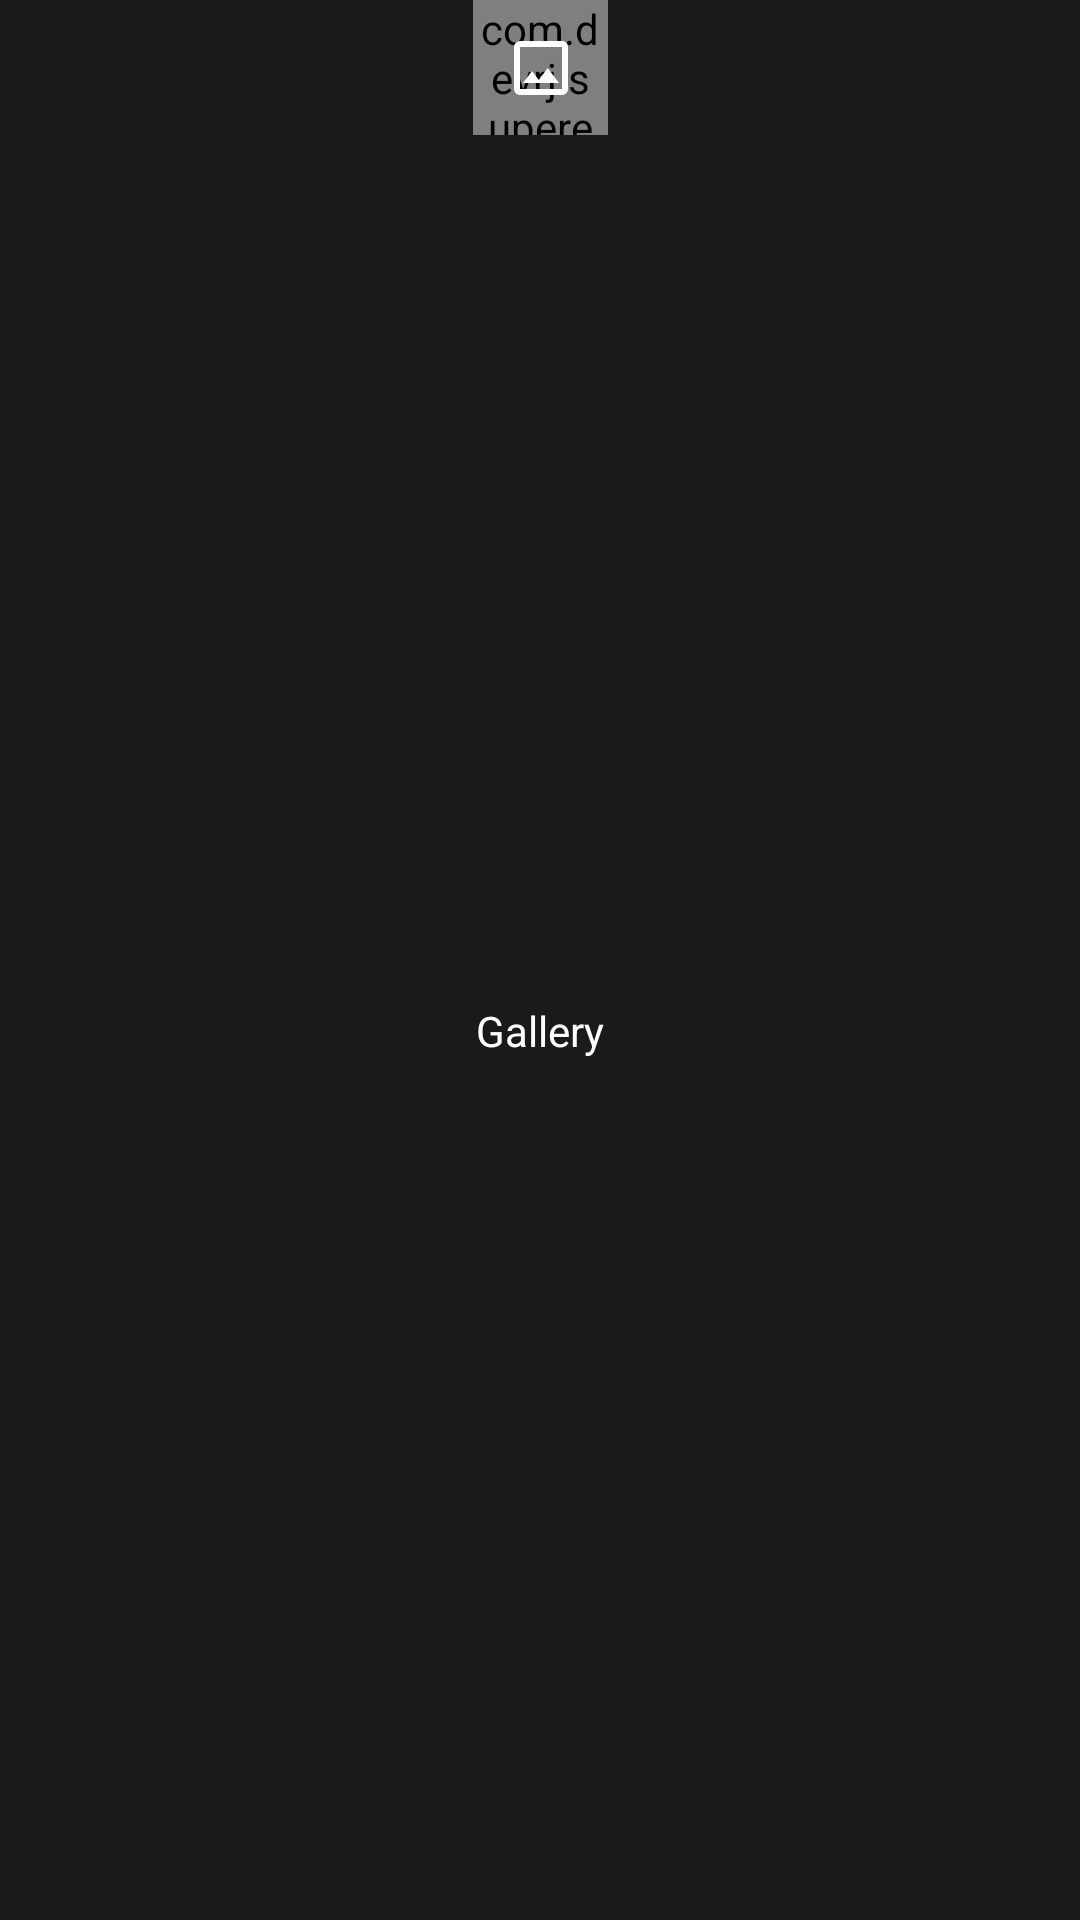

Named icons in this screenshot (1080px x 1920px) and their bounding boxes, BBox(x1, y1, x2, y2):
photo: BBox(505, 32, 577, 103)
